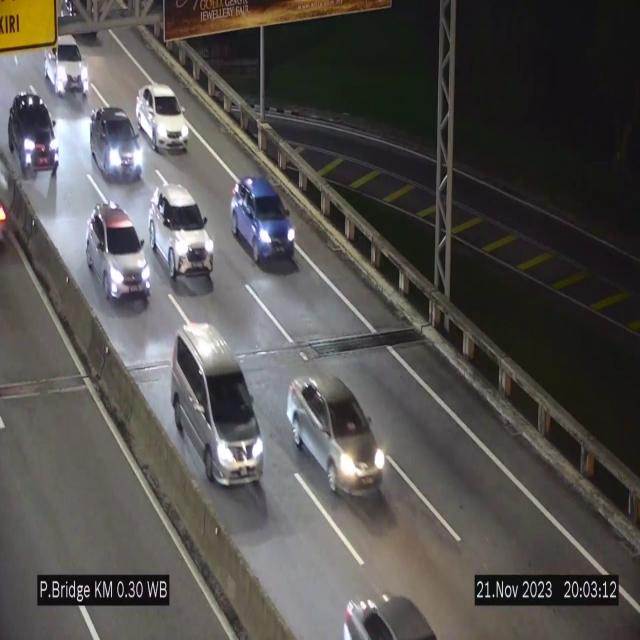Car: (171, 326, 264, 484), (285, 367, 385, 496), (148, 184, 214, 290), (339, 583, 449, 640), (86, 203, 150, 300), (230, 176, 296, 267), (6, 90, 61, 176), (88, 102, 144, 182), (43, 27, 94, 100), (136, 84, 190, 150)
